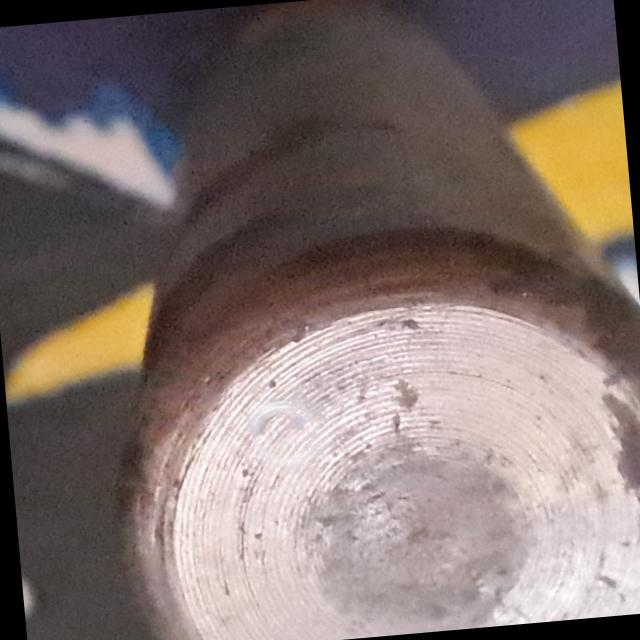defect: (238, 384, 336, 472)
planson: (113, 0, 640, 640)
